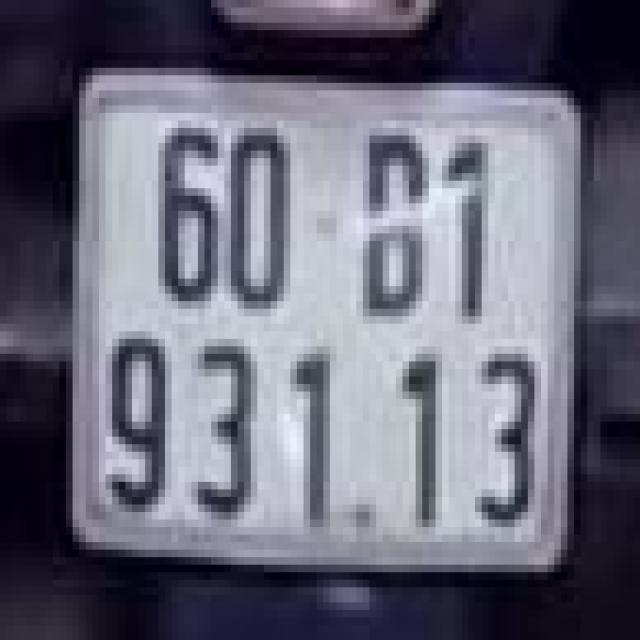0: (231, 102, 303, 320)
1: (379, 331, 452, 550), (432, 120, 505, 324), (277, 316, 343, 535)
3: (465, 335, 538, 546), (195, 316, 267, 527)
6: (145, 120, 224, 308)
9: (89, 308, 175, 520)
B: (353, 101, 432, 312)
